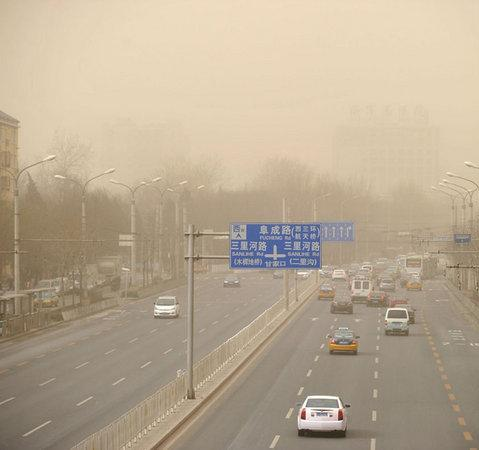bus: (403, 256, 425, 281)
car: (295, 395, 351, 438), (327, 327, 361, 355), (383, 308, 410, 337), (152, 295, 179, 318), (349, 280, 374, 303), (391, 303, 416, 326), (35, 279, 58, 300), (32, 291, 60, 308), (366, 290, 390, 309), (330, 295, 353, 314), (51, 276, 70, 296), (317, 284, 336, 301), (387, 295, 410, 309), (65, 278, 82, 296), (222, 274, 241, 288), (378, 279, 396, 292), (382, 268, 401, 280), (406, 279, 423, 292), (348, 277, 364, 290), (357, 268, 372, 281), (331, 269, 347, 281), (360, 265, 376, 277), (377, 275, 395, 285), (294, 269, 310, 280), (406, 272, 422, 283), (385, 265, 402, 275), (362, 261, 375, 273), (319, 268, 332, 279), (317, 265, 330, 276), (272, 270, 284, 280), (348, 268, 360, 278)
